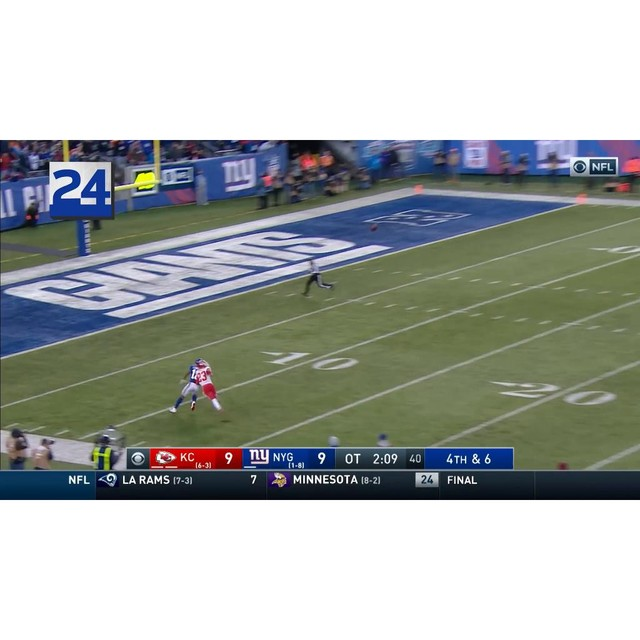american-football-player: (169, 359, 202, 414), (193, 358, 223, 413)
referee: (302, 257, 332, 299)
